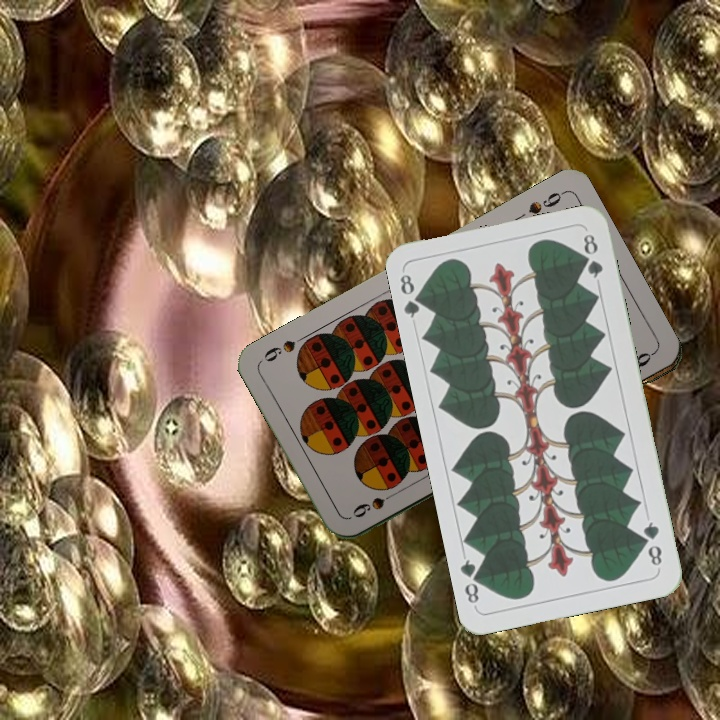G8: (396, 270, 428, 321), (638, 517, 665, 569)
S9: (348, 486, 402, 521), (524, 187, 567, 217)
